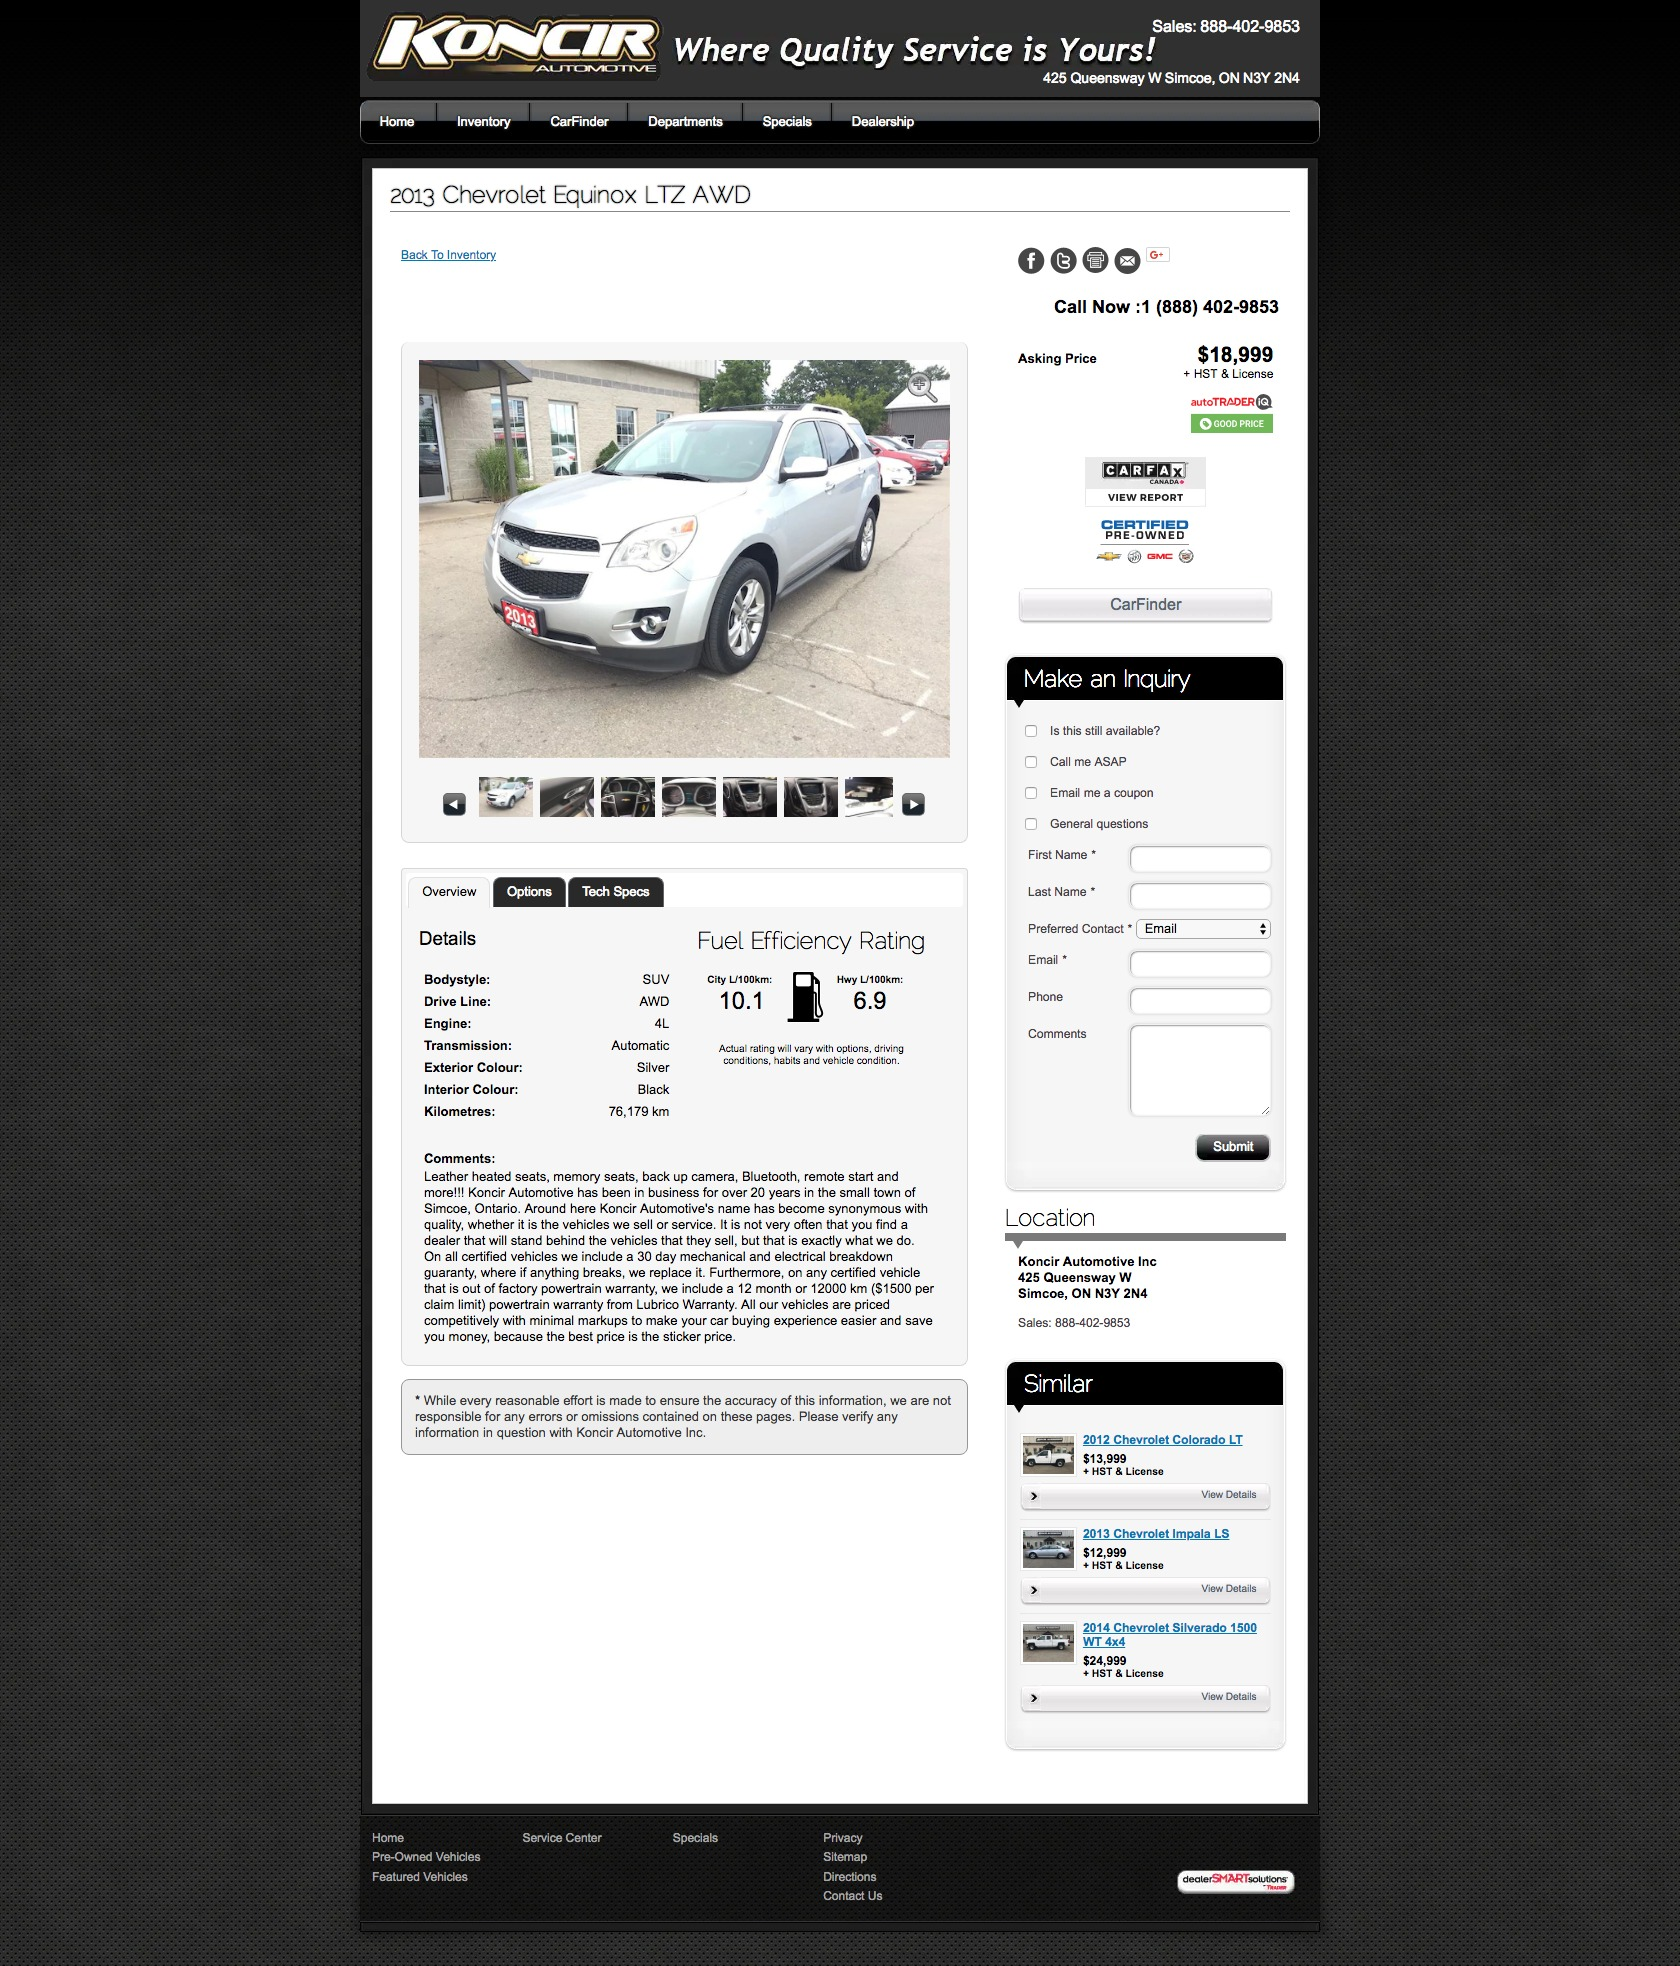car: (910, 800, 918, 810)
